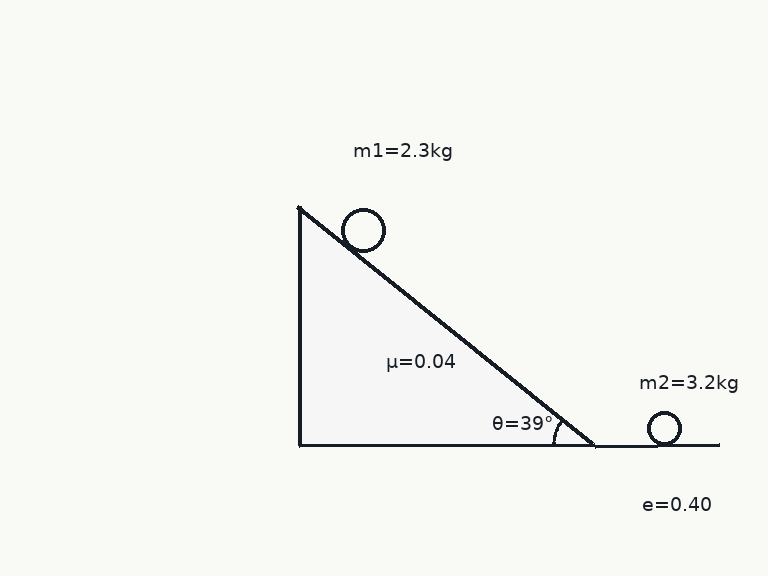ball: (339, 206, 387, 254), (645, 409, 683, 447)
ramp: (296, 204, 595, 447)
